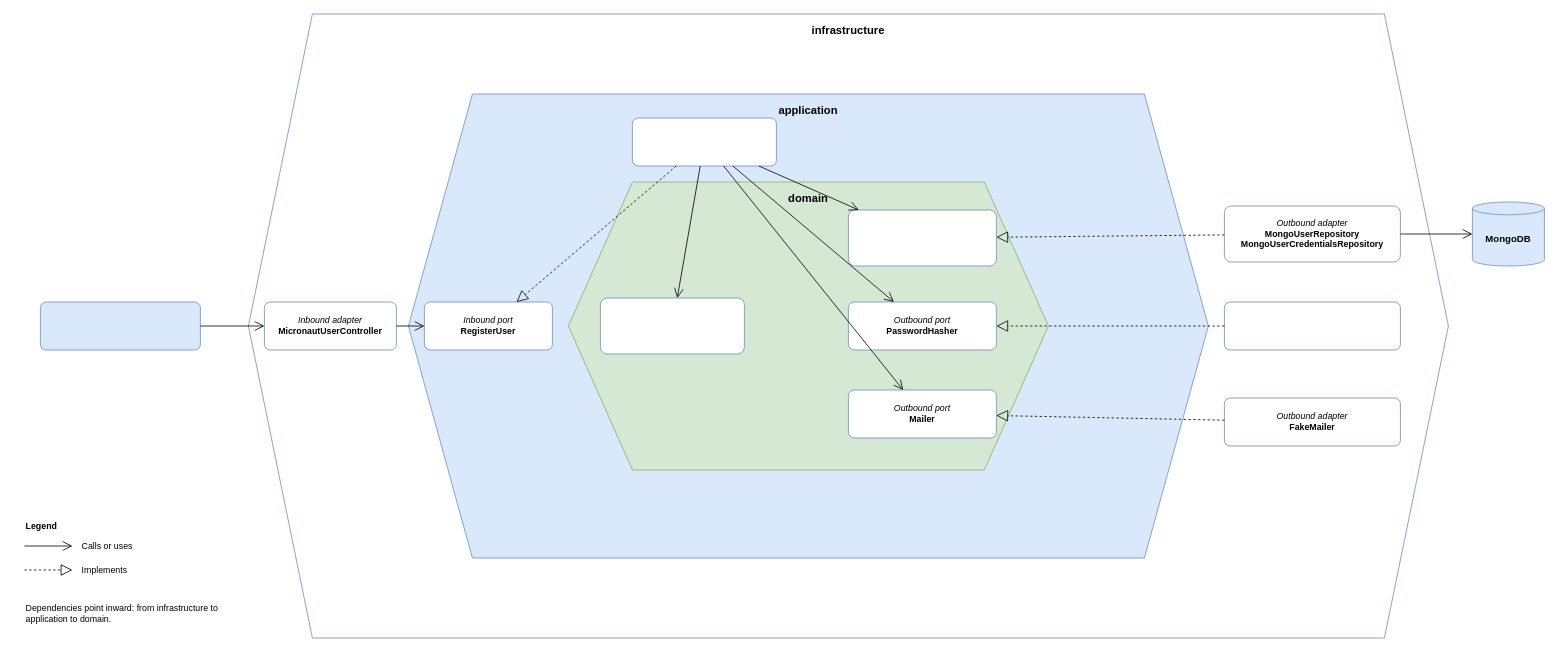
The diagram is 1558 pixels wide and 652 high, and some of its shapes have lost their labels. Here are the shapes that lost their labels. From the top down, the centre of each, then its label:
pixel 704 141: Use case RegisterUserUseCase
pixel 922 237: Outbound ports UserRepository UserCredentialsRepository
pixel 120 325: gateway-service HTTP client
pixel 672 325: Model User UserCredentials
pixel 1312 325: Outbound adapter KotlinPasswordHasher
